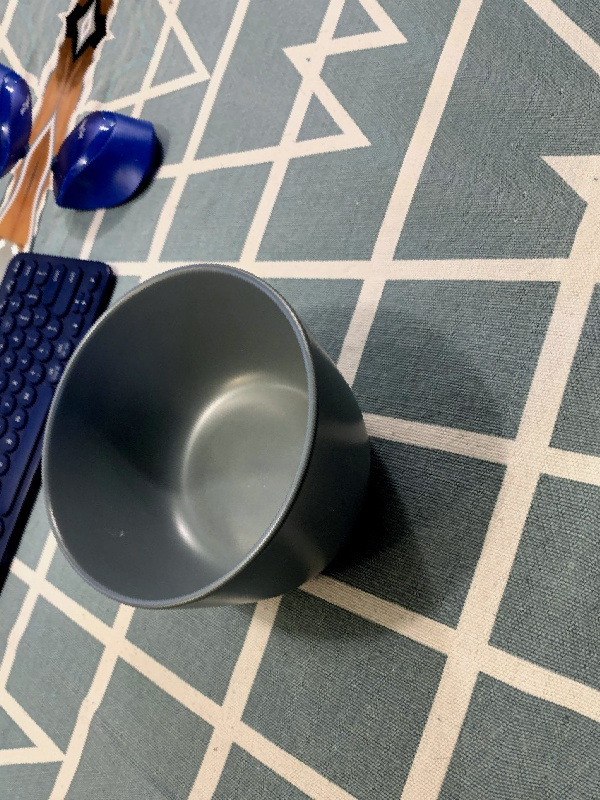bowl_big: (0, 208, 430, 686)
